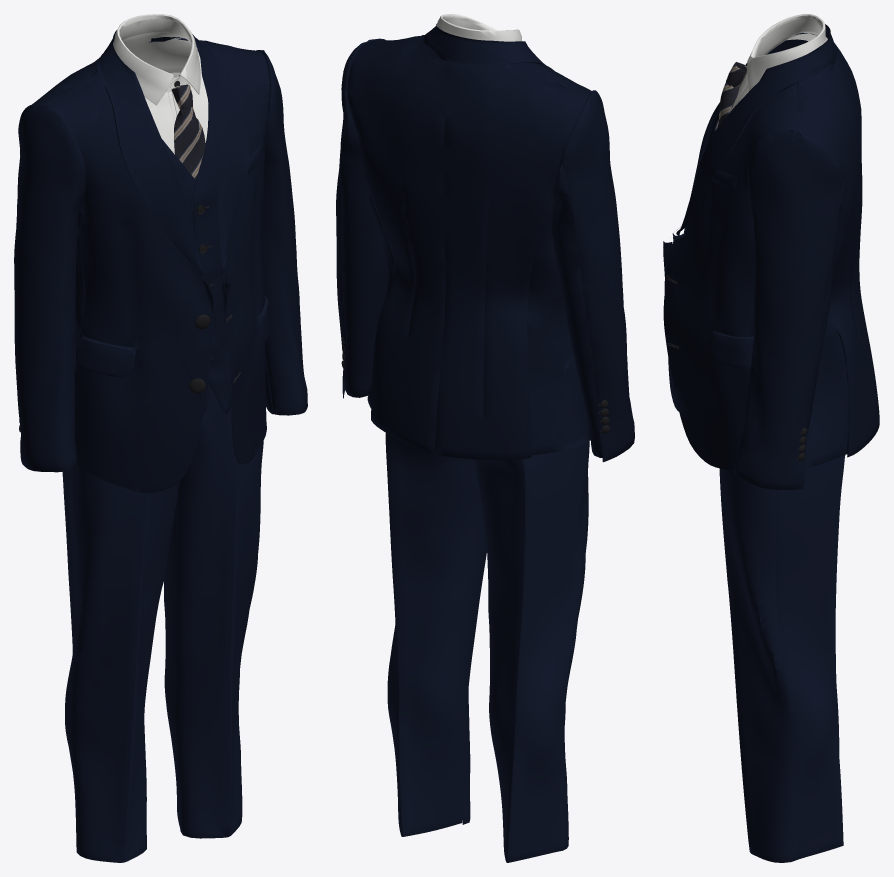
Rendered from shawl.glb.
The picture shows the model from 3 angles, left to right: view 1: azimuth 30°, elevation 25°; view 2: azimuth 150°, elevation 25°; view 3: azimuth 270°, elevation 25°; orthographic projection. The views are drawn at different scales.
Parts seen in each view (by area): view 1: Jacket, Trousers, Shirt, Waistcoat, Tie, Trim; view 2: Jacket, Trousers, Shirt; view 3: Jacket, Trousers, Shirt, Tie.
Boxes of the visible parts, x1=… form: Jacket: x1=14, y1=30, x2=307, y2=492; Trousers: x1=62, y1=384, x2=263, y2=862; Shirt: x1=113, y1=14, x2=208, y2=154; Waistcoat: x1=75, y1=41, x2=231, y2=413; Tie: x1=172, y1=84, x2=205, y2=179; Trim: x1=19, y1=81, x2=210, y2=432; Jacket: x1=336, y1=23, x2=634, y2=462; Trousers: x1=385, y1=339, x2=589, y2=862; Shirt: x1=436, y1=14, x2=521, y2=41; Jacket: x1=663, y1=24, x2=879, y2=489; Trousers: x1=719, y1=455, x2=845, y2=862; Shirt: x1=715, y1=14, x2=827, y2=129; Tie: x1=717, y1=62, x2=746, y2=127.
Size of the model in its own units: 0.5389 by 1.5 by 0.3678.
8 materials, 4 textured.
